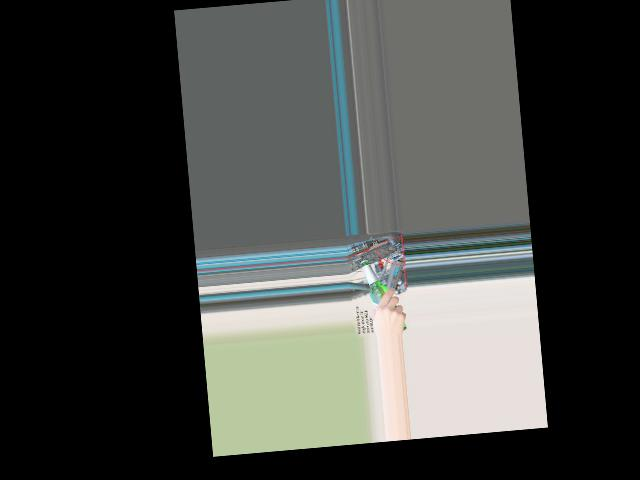beer: (360, 255, 407, 333)
